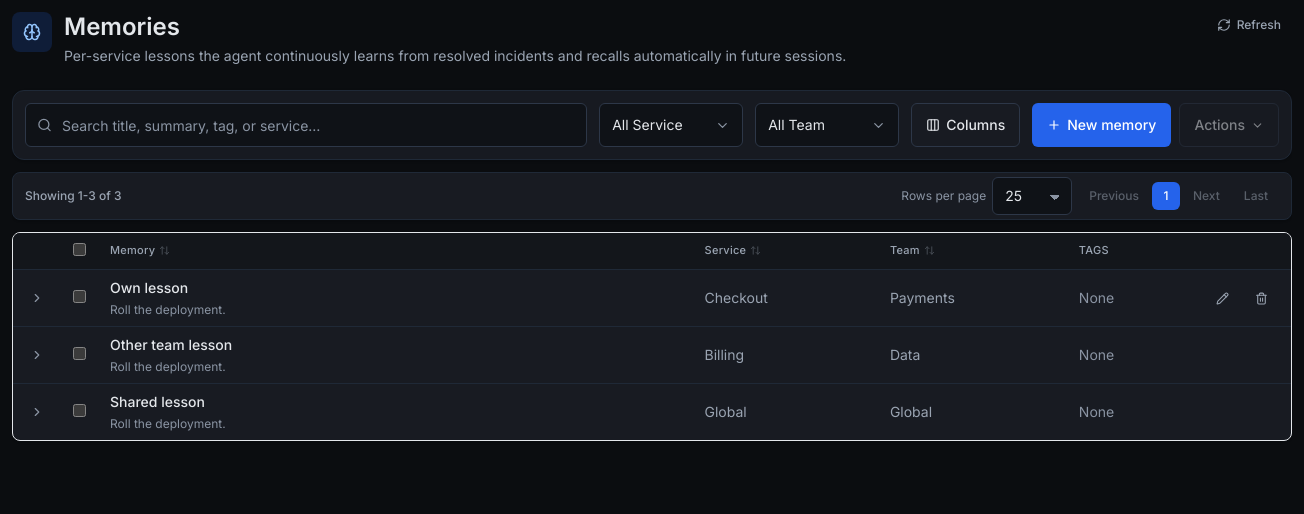
Scenario: Memories selection and actions › lets an operator edit and delete only their teams' memories
The width and height of the screenshot is (1304, 514).
Expected: the button titled "Edit" is shown, [1205,286,1240,310]
Expected: the button titled "Delete" is shown, [1244,286,1279,310]
Click the checkbox named "Select row" next to "Shared lesson": {"x": 80, "y": 410} [73,404,86,417]
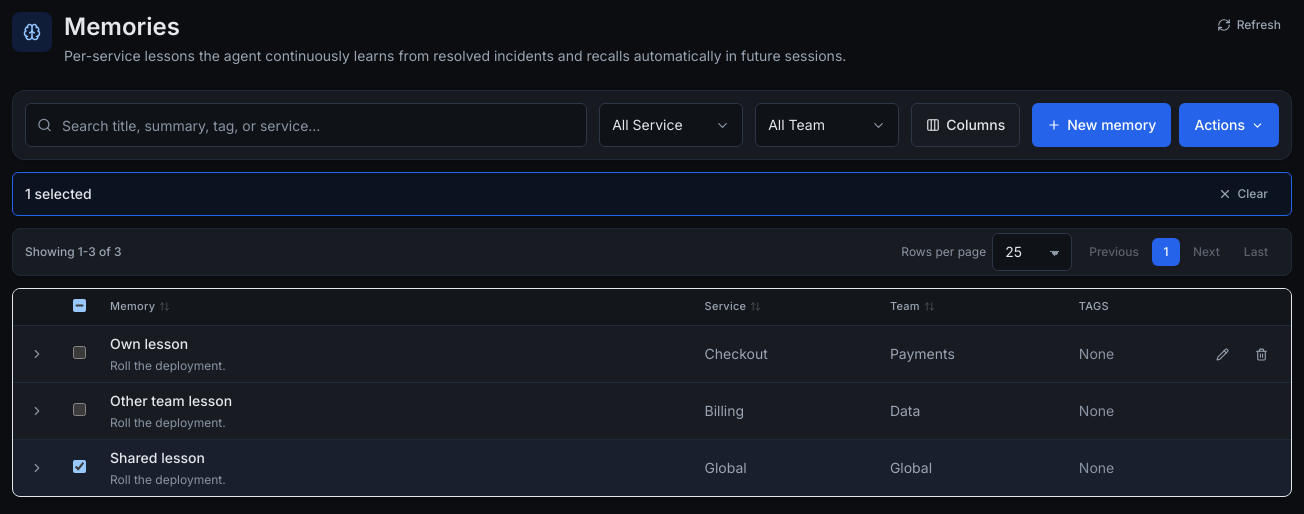
Click the button with test id "memory-actions-trigger": {"x": 1229, "y": 125} [1179,103,1279,147]
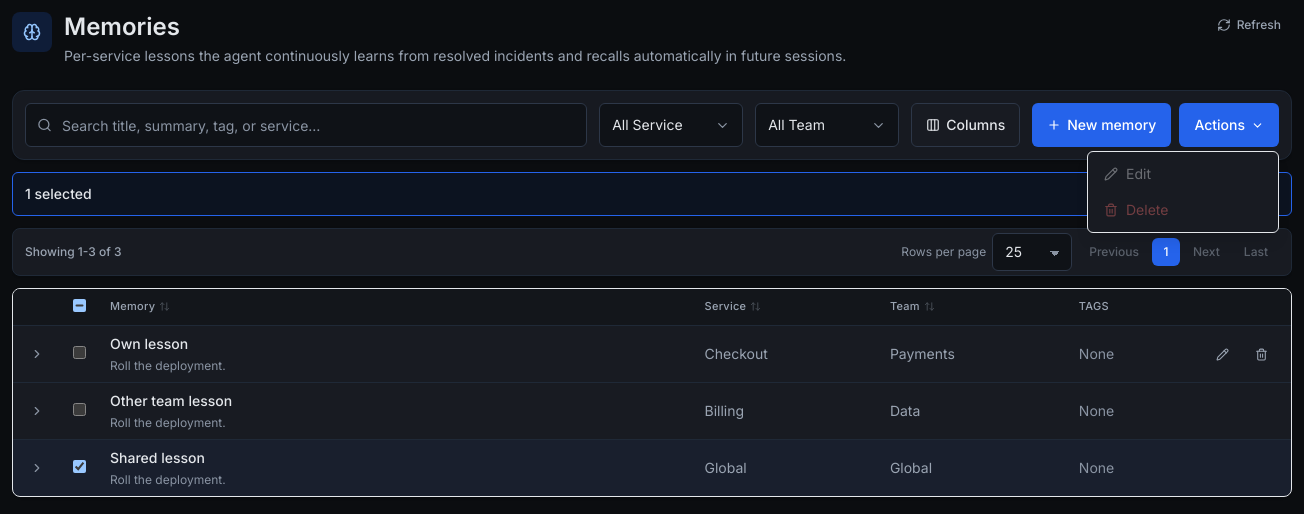
Expected: the button with test id "memory-action-edit" is disabled, [1092,156,1274,192]
Expected: the button with test id "memory-action-delete" is disabled, [1092,192,1274,228]
